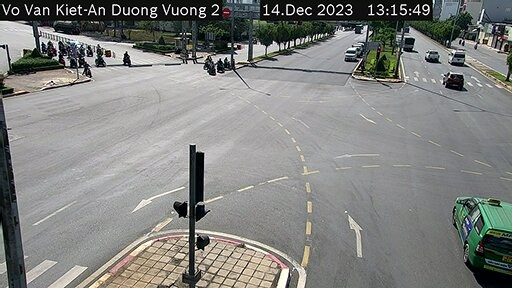car: (455, 193, 509, 270), (443, 69, 468, 92), (419, 44, 442, 66), (451, 46, 467, 66), (344, 45, 356, 62)
truck: (400, 34, 416, 50)
